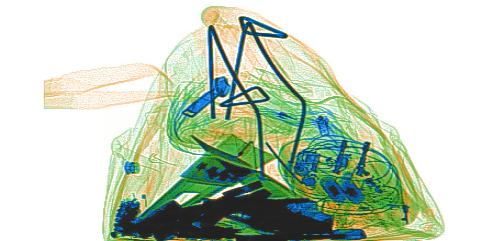battery: (318, 175, 366, 204)
